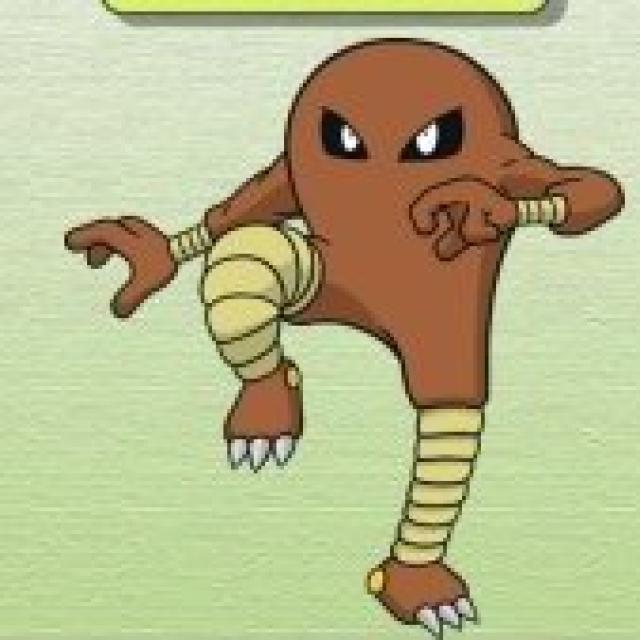Hitmonlee: (176, 33, 579, 577)
